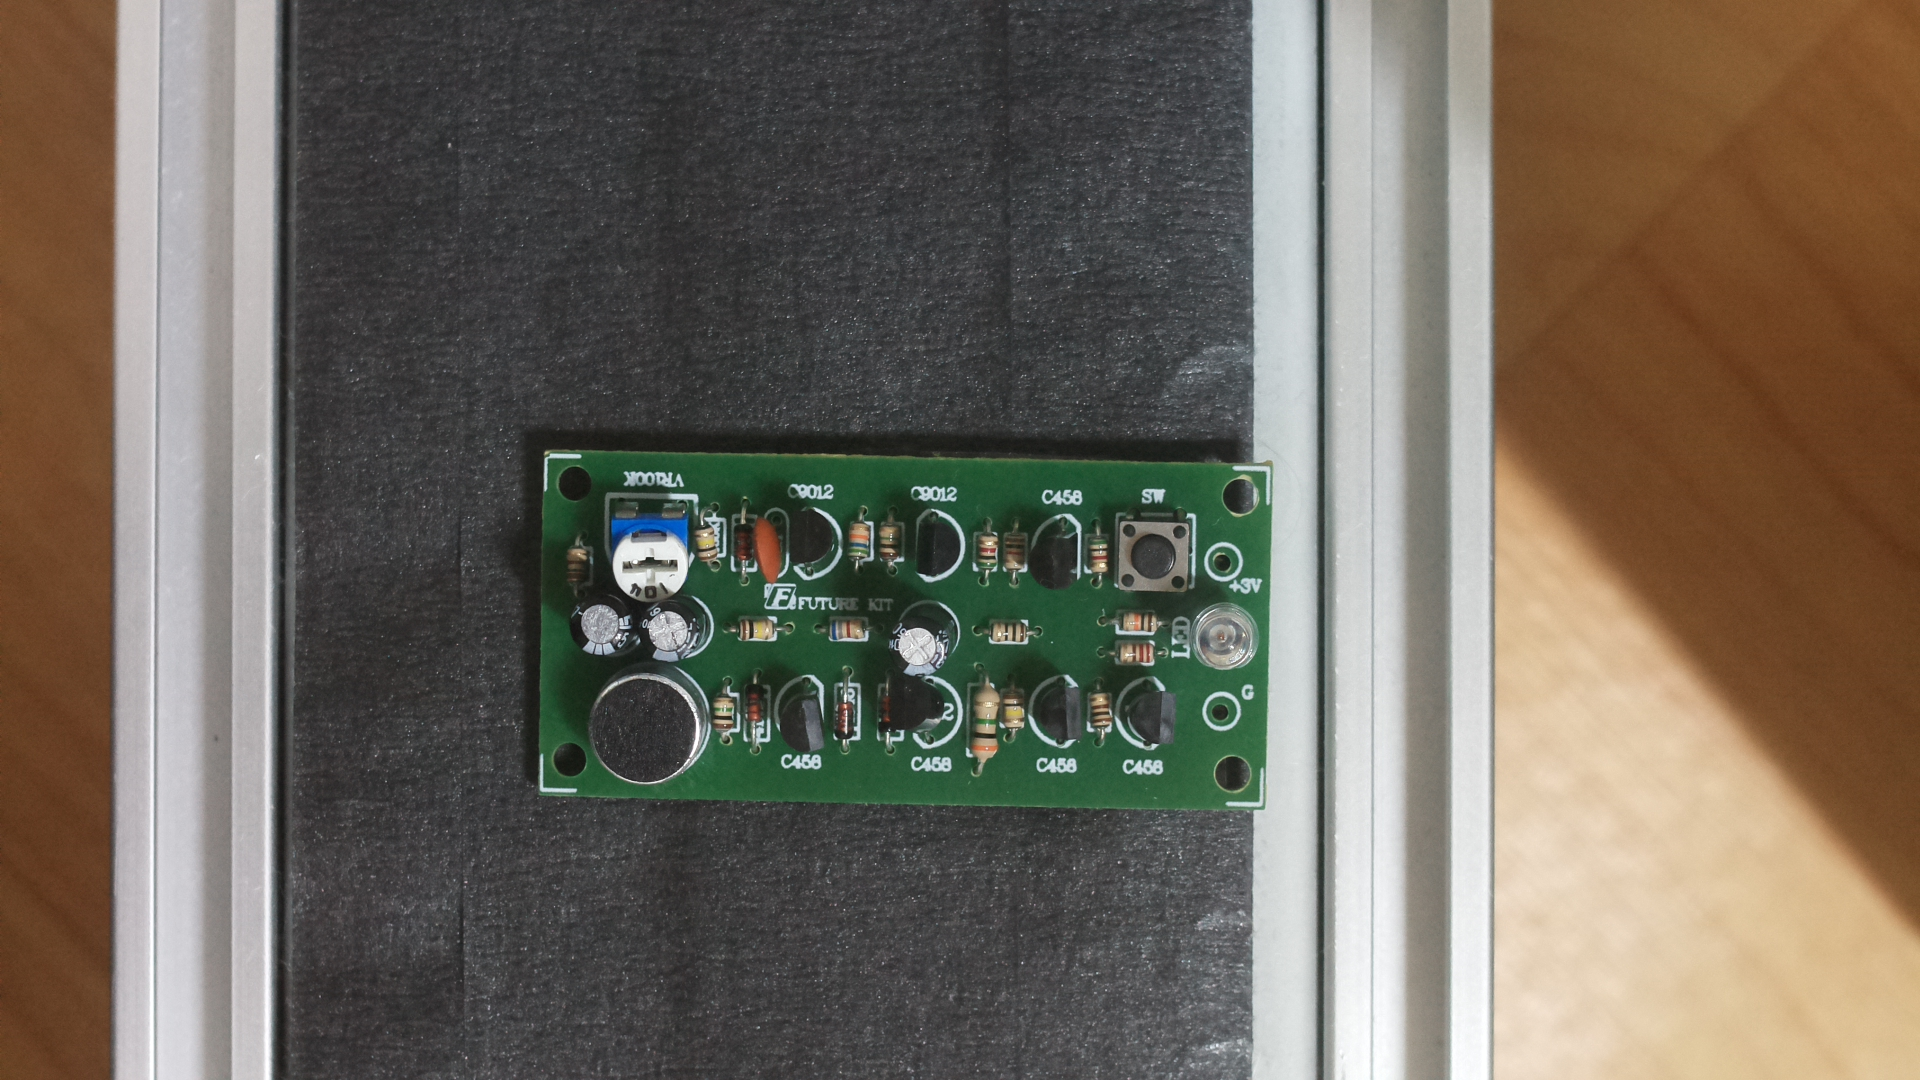A_Normal: (517, 422, 1283, 840)
